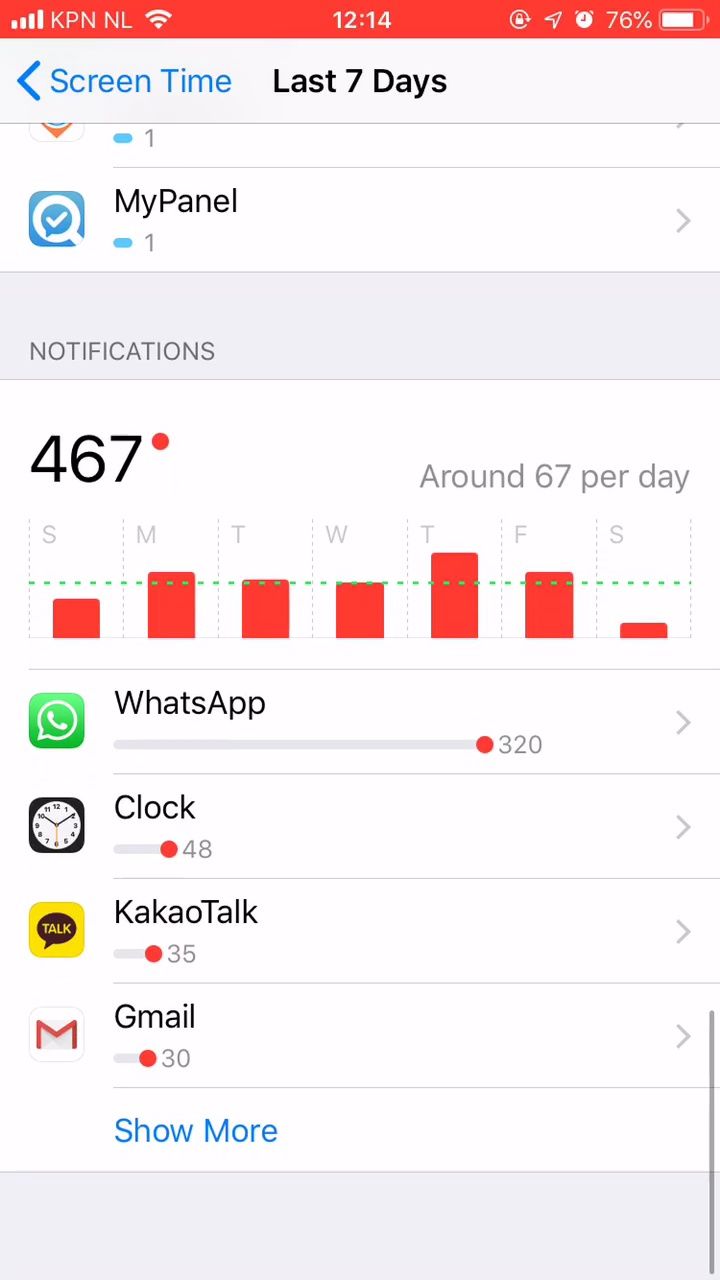not_app: (14, 669, 593, 774), (17, 983, 359, 1088), (14, 775, 321, 882), (12, 886, 328, 982)
not_over: (14, 311, 275, 502)
pick_app: (11, 167, 421, 261)
week: (260, 54, 466, 111)
